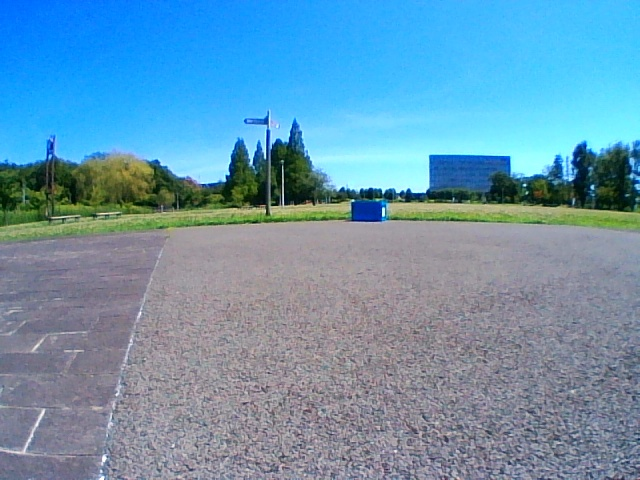blue_box: (350, 200, 387, 222)
tag: (381, 206, 385, 215)
